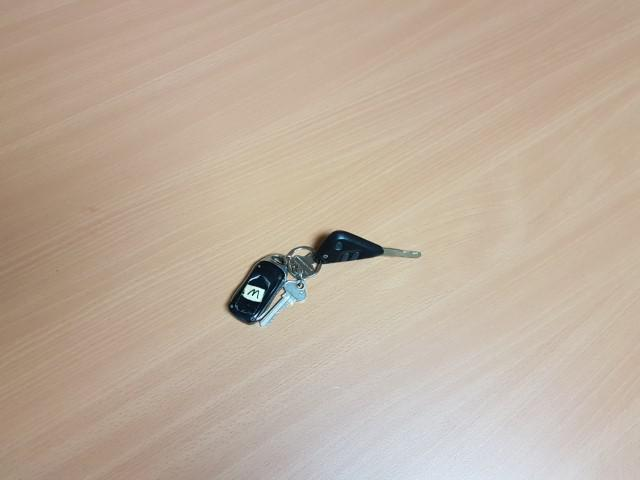key: (315, 229, 421, 264)
